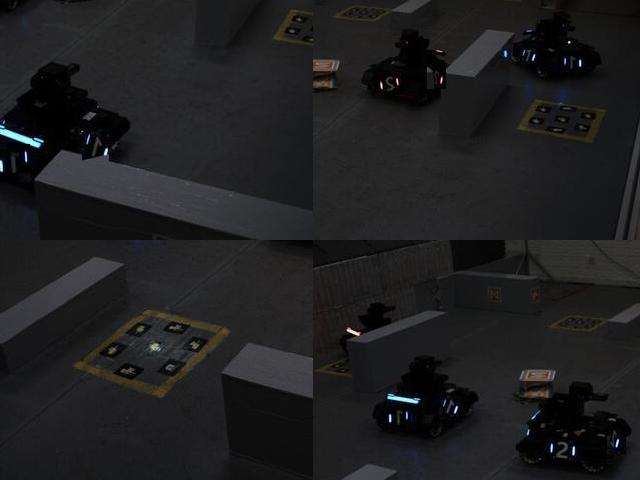armor: (0, 144, 32, 184), (544, 436, 580, 466), (82, 133, 110, 163), (439, 395, 466, 421), (375, 73, 404, 96), (388, 404, 413, 430), (607, 426, 627, 456), (428, 68, 448, 91), (562, 53, 586, 70), (519, 44, 537, 65)
